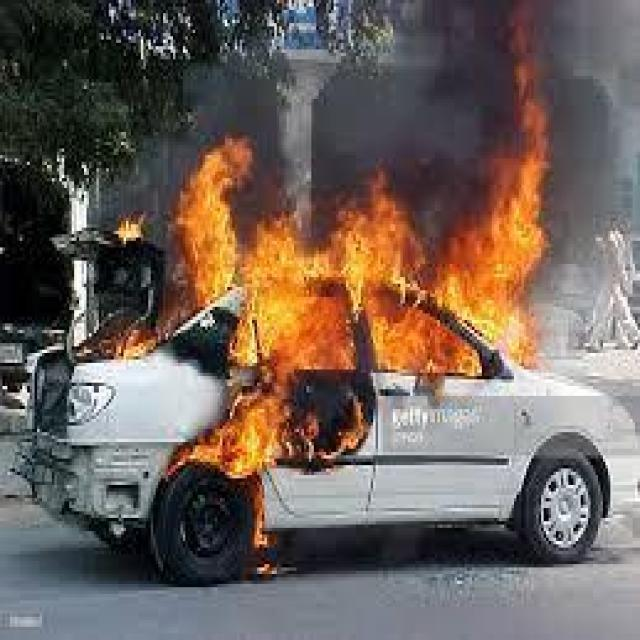Fire: (170, 111, 562, 507)
Smoke: (326, 0, 640, 221)
